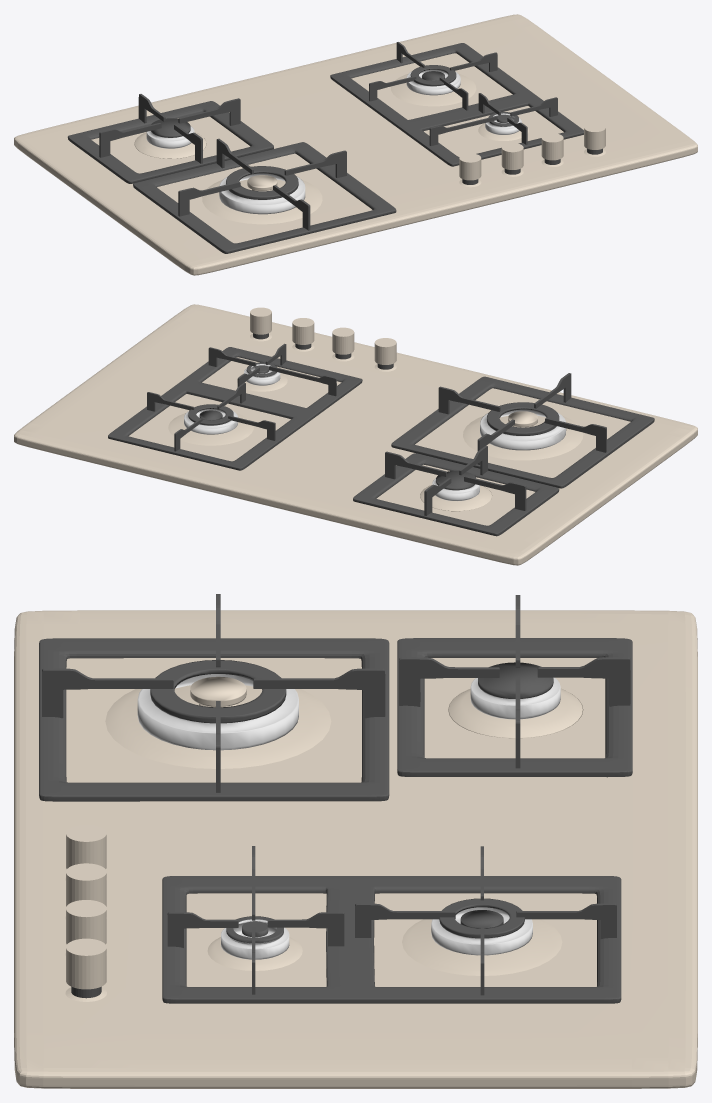
Rendered from stove.glb.
3 views of the same model, one above another, from view 1: azimuth 30°, elevation 25°; view 2: azimuth 150°, elevation 25°; view 3: azimuth 270°, elevation 25° (orthographic). The views are drawn at different scales.
Parts seen in each view (by area): view 1: Cube.080, Cube.086, Cube.089, Cube.084, Cube.092; view 2: Cube.080, Cube.086, Cube.089, Cube.084, Cube.092; view 3: Cube.080, Cube.086, Cube.089, Cube.084, Cube.092.
Part boxes in pixels (bbox=[...]): Cube.080: bbox=[14, 14, 697, 275]; Cube.086: bbox=[67, 42, 583, 253]; Cube.089: bbox=[134, 73, 528, 224]; Cube.084: bbox=[146, 69, 521, 214]; Cube.092: bbox=[459, 123, 605, 187]; Cube.080: bbox=[14, 304, 697, 565]; Cube.086: bbox=[108, 343, 654, 536]; Cube.089: bbox=[168, 373, 583, 511]; Cube.084: bbox=[184, 364, 566, 501]; Cube.092: bbox=[250, 307, 396, 371]; Cube.080: bbox=[14, 610, 697, 1088]; Cube.086: bbox=[39, 594, 632, 1003]; Cube.089: bbox=[105, 676, 583, 975]; Cube.084: bbox=[137, 674, 560, 959]; Cube.092: bbox=[65, 824, 106, 1001].
Bounding box in the file's own units: 0.9547 × 0.067 × 0.592.
